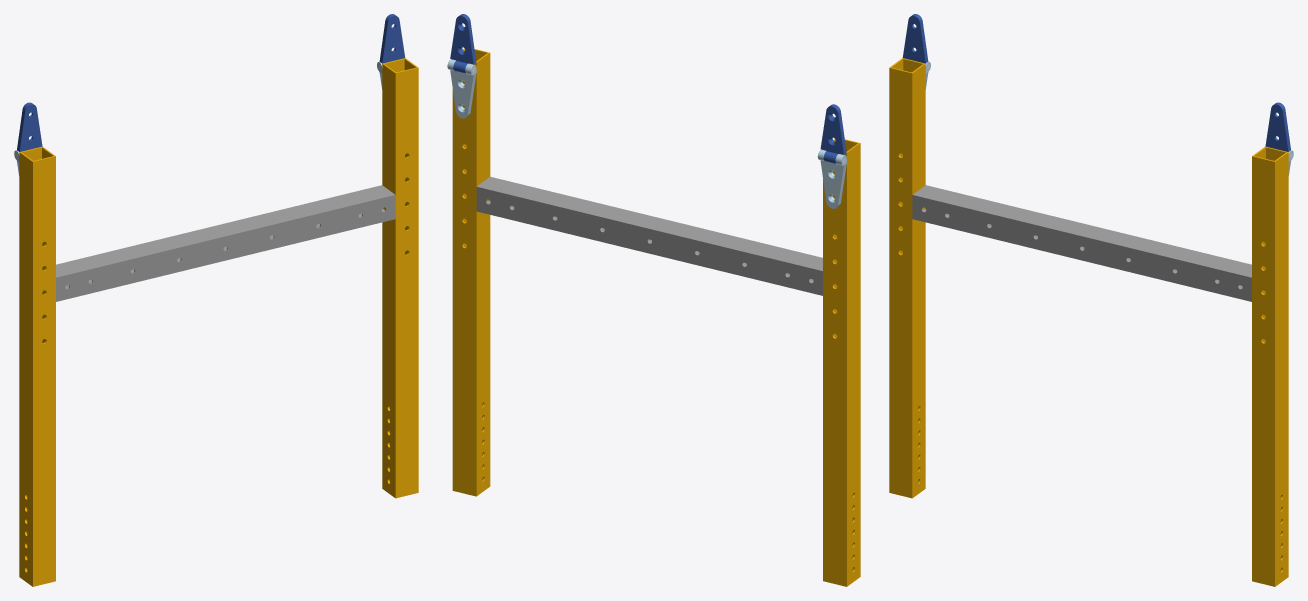
Rendered from old_model_1.glb.
3 views of the same model, side by side, from view 1: azimuth 30°, elevation 25°; view 2: azimuth 150°, elevation 25°; view 3: azimuth 330°, elevation 25° (orthographic). The views are drawn at different scales.
Visible parts, largest first — view 1: 03_ARM_MAIN_LINK (×2), 03_ARM_CROSS, CSK_FOR__10_FLAT_HEAD_MACH-1306 (×2); view 2: 03_ARM_MAIN_LINK (×2), 03_ARM_CROSS, CSK_FOR__10_FLAT_HEAD_MACH-1306 (×2), CSK_FOR__10_FLAT_HEAD_MACHI-165 (×2); view 3: 03_ARM_MAIN_LINK (×2), 03_ARM_CROSS, CSK_FOR__10_FLAT_HEAD_MACH-1306 (×2).
Part boxes in pixels (x1=…): 03_ARM_MAIN_LINK (×2): x1=19, y1=58, x2=418, y2=586; 03_ARM_CROSS: x1=56, y1=185, x2=395, y2=301; CSK_FOR__10_FLAT_HEAD_MACH-1306 (×2): x1=17, y1=14, x2=405, y2=151; 03_ARM_MAIN_LINK (×2): x1=452, y1=48, x2=860, y2=586; 03_ARM_CROSS: x1=476, y1=176, x2=822, y2=295; CSK_FOR__10_FLAT_HEAD_MACH-1306 (×2): x1=450, y1=14, x2=846, y2=163; CSK_FOR__10_FLAT_HEAD_MACHI-165 (×2): x1=447, y1=59, x2=846, y2=208; 03_ARM_MAIN_LINK (×2): x1=889, y1=58, x2=1288, y2=586; 03_ARM_CROSS: x1=912, y1=185, x2=1251, y2=301; CSK_FOR__10_FLAT_HEAD_MACH-1306 (×2): x1=902, y1=14, x2=1290, y2=151.
Bounding box in the file's own units: 0.4224 × 0.4912 × 0.0353.
